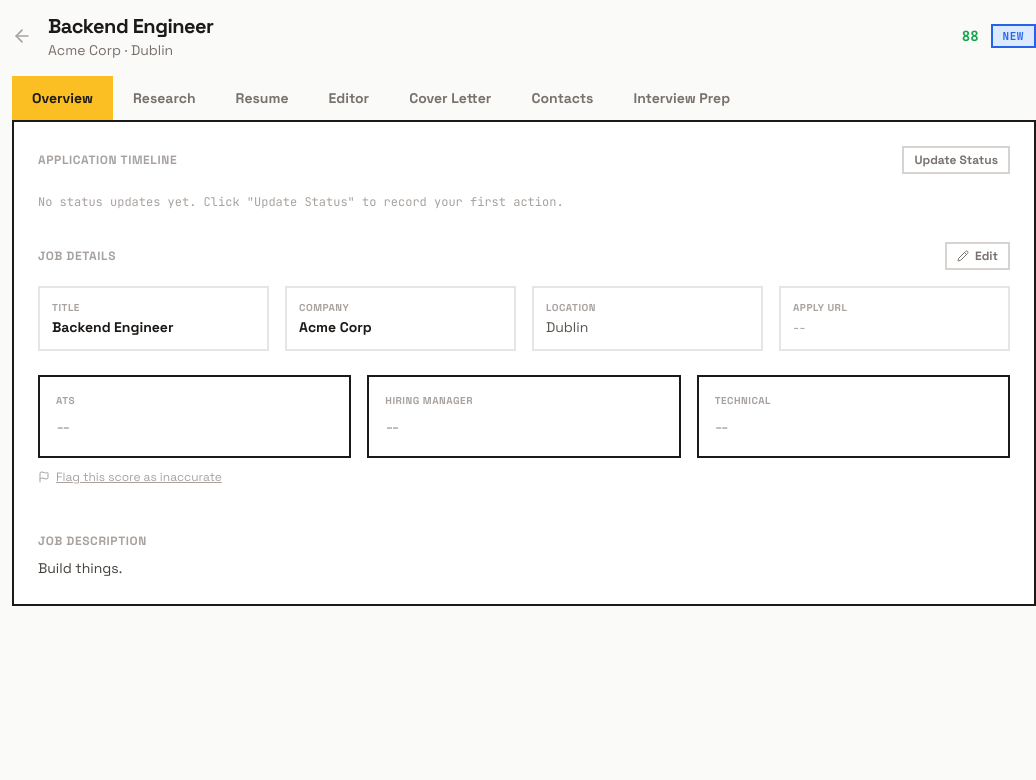
Test: Contacts tab › shows contacts found by the task without a reload
Click the button "Contacts" at (562, 98), box [511,76,614,120]
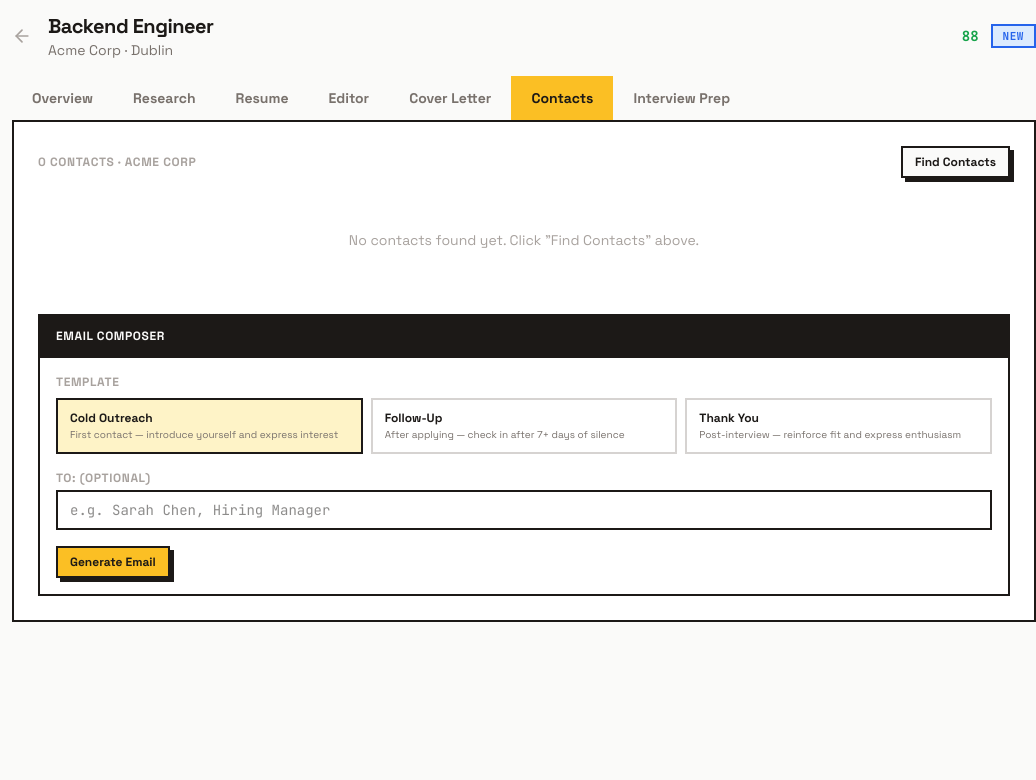
expect the text "0 Contacts · Acme Corp" is shown: met, box [38,154,196,170]
Click the button "Find Contacts" at (956, 162), box [901,146,1010,178]
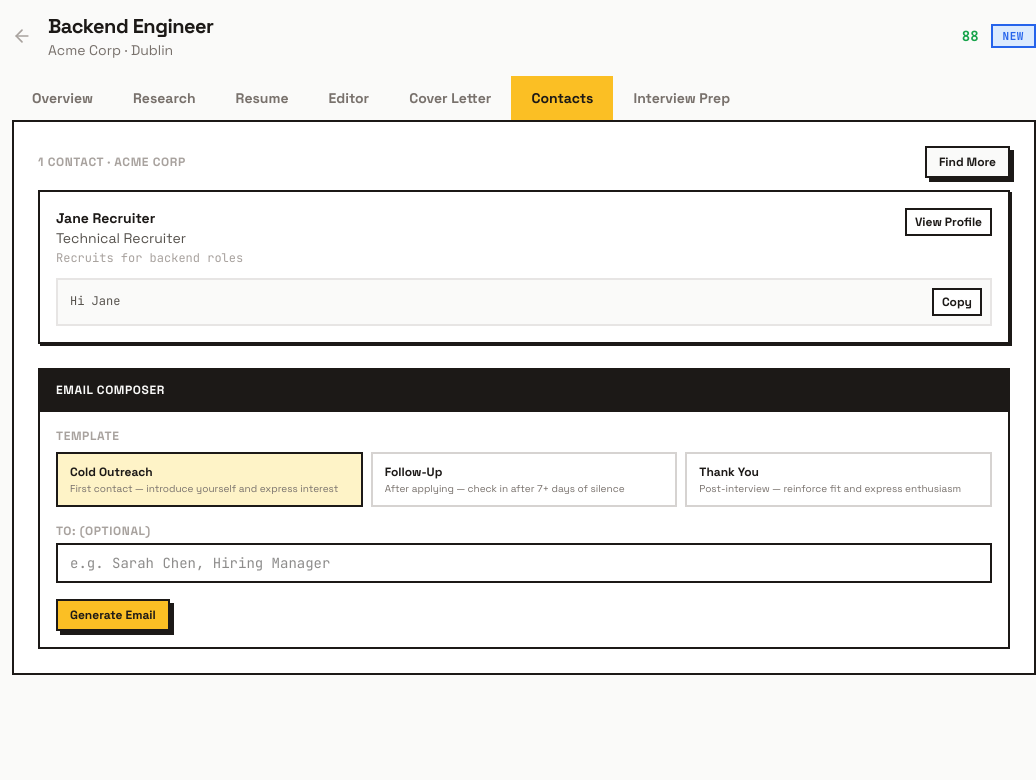
expect the text "Jane Recruiter" is shown: met, box [56,209,155,227]
expect the text "1 Contact · Acme Corp" is shown: met, box [38,154,186,170]
